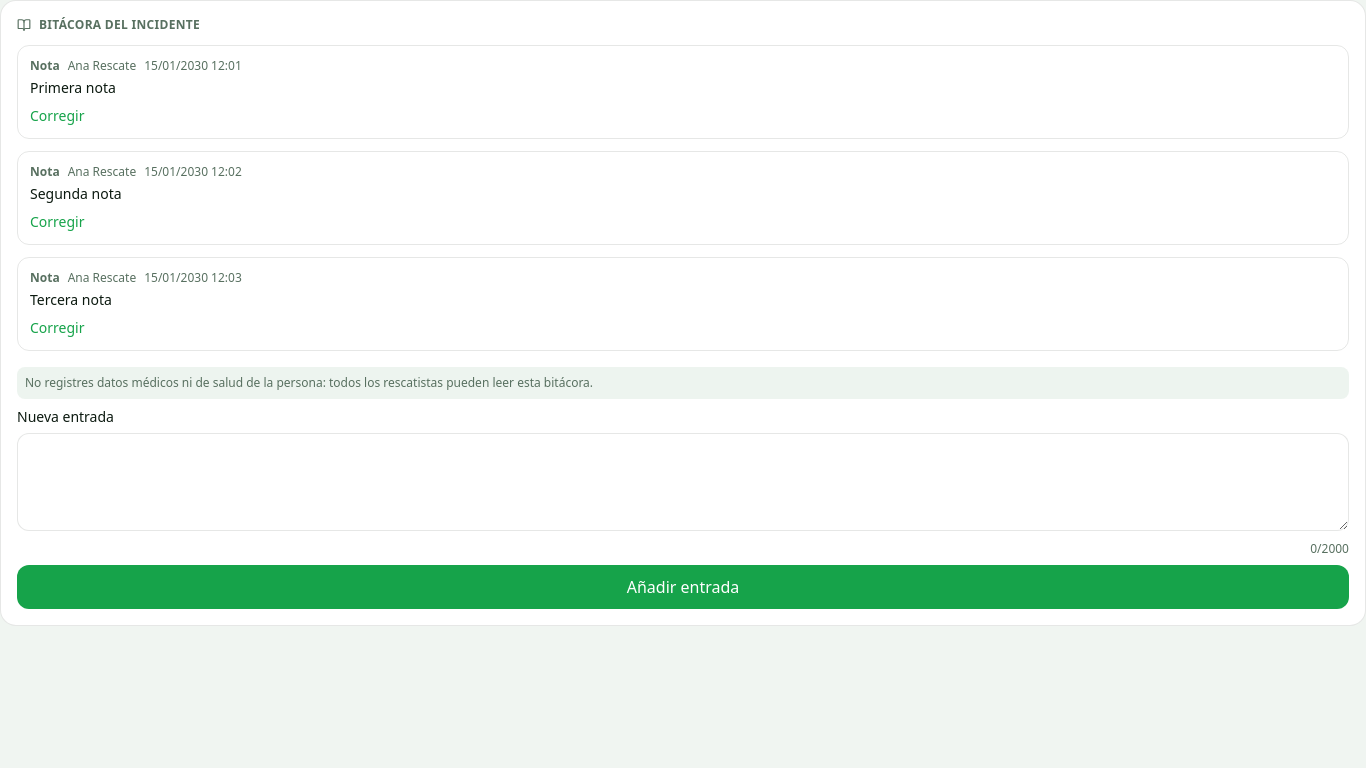
Test: BitacoraIncidente (HU-41) › "Corregir" envía corrigeEntradaId y "Cancelar corrección" lo quita
Click the button "Corregir" below "15/01/2030 12:02" at (57, 222), box [30,212,84,232]
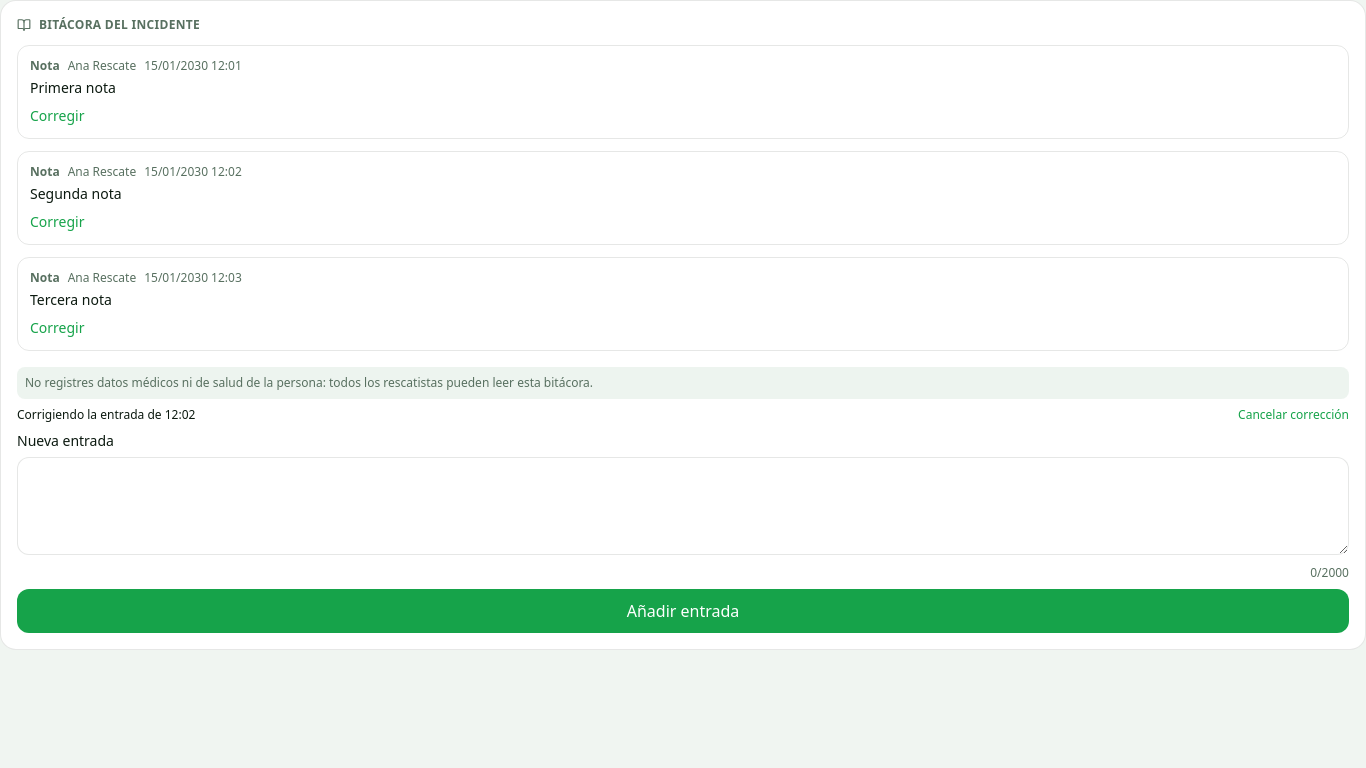
Check: the text "Corrigiendo la entrada de 12:02" is shown, box [17,407,195,423]
Click the button "Cancelar corrección" at (1294, 415), box [1238,407,1349,423]
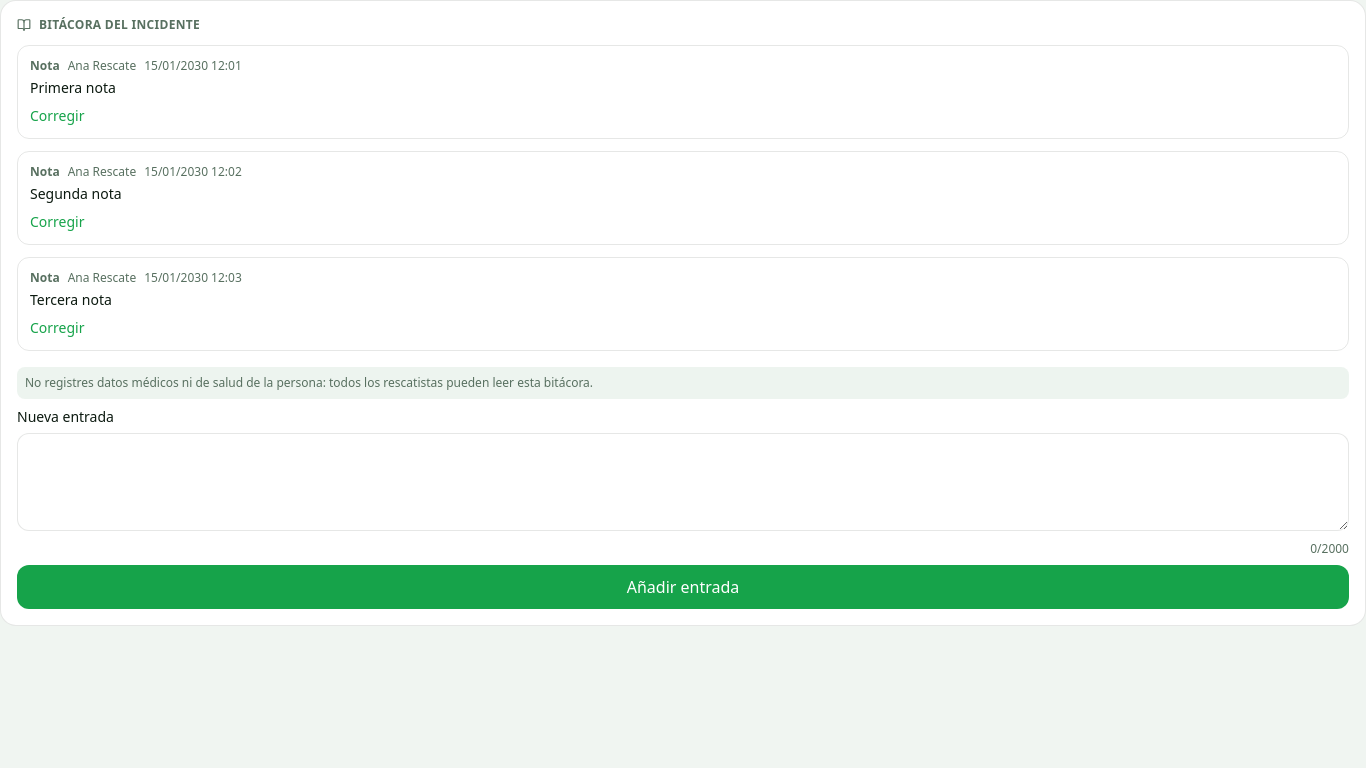
Check: the text "Corrigiendo la entrada" is gone
Click the button "Corregir" below "15/01/2030 12:02" at (57, 222), box [30,212,84,232]
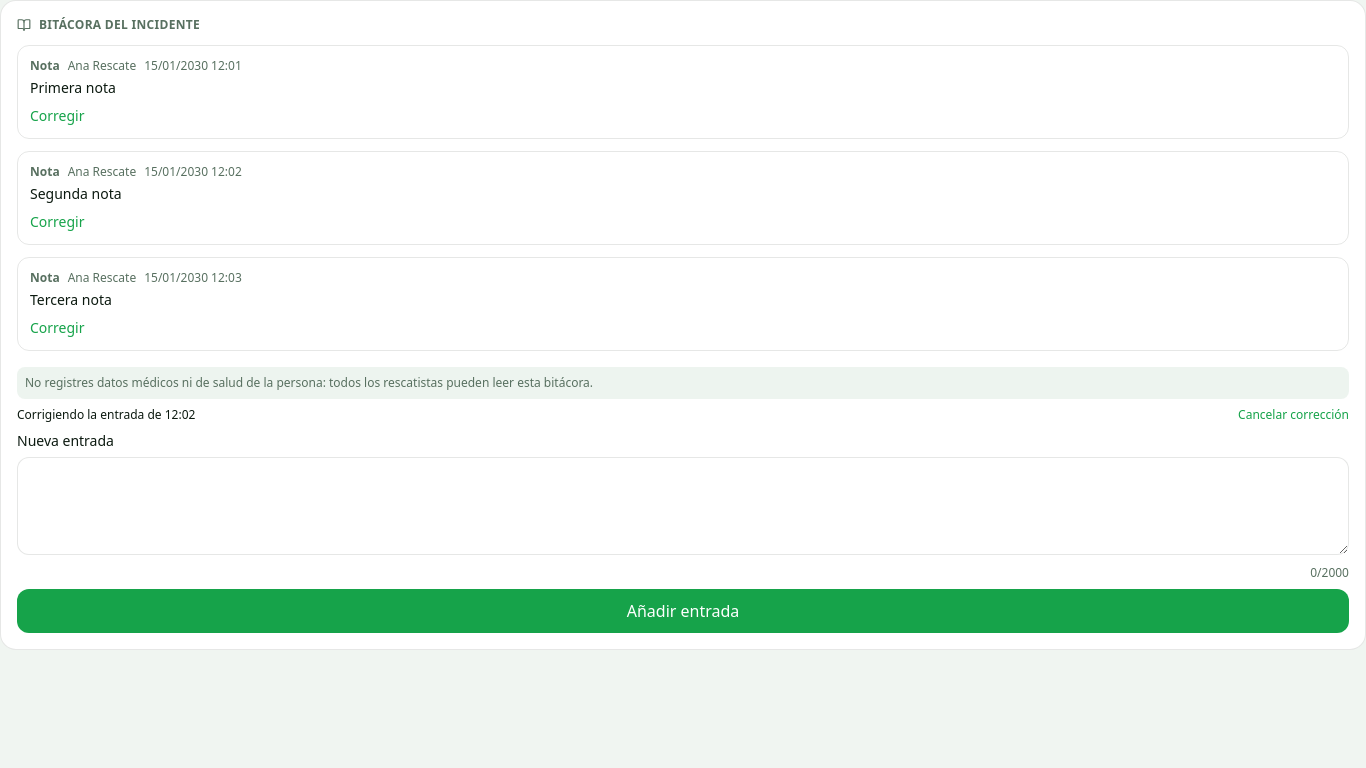
Type "Texto corregido" into the text box labelled "Nueva entrada" at (683, 506), box [17,457,1349,555]
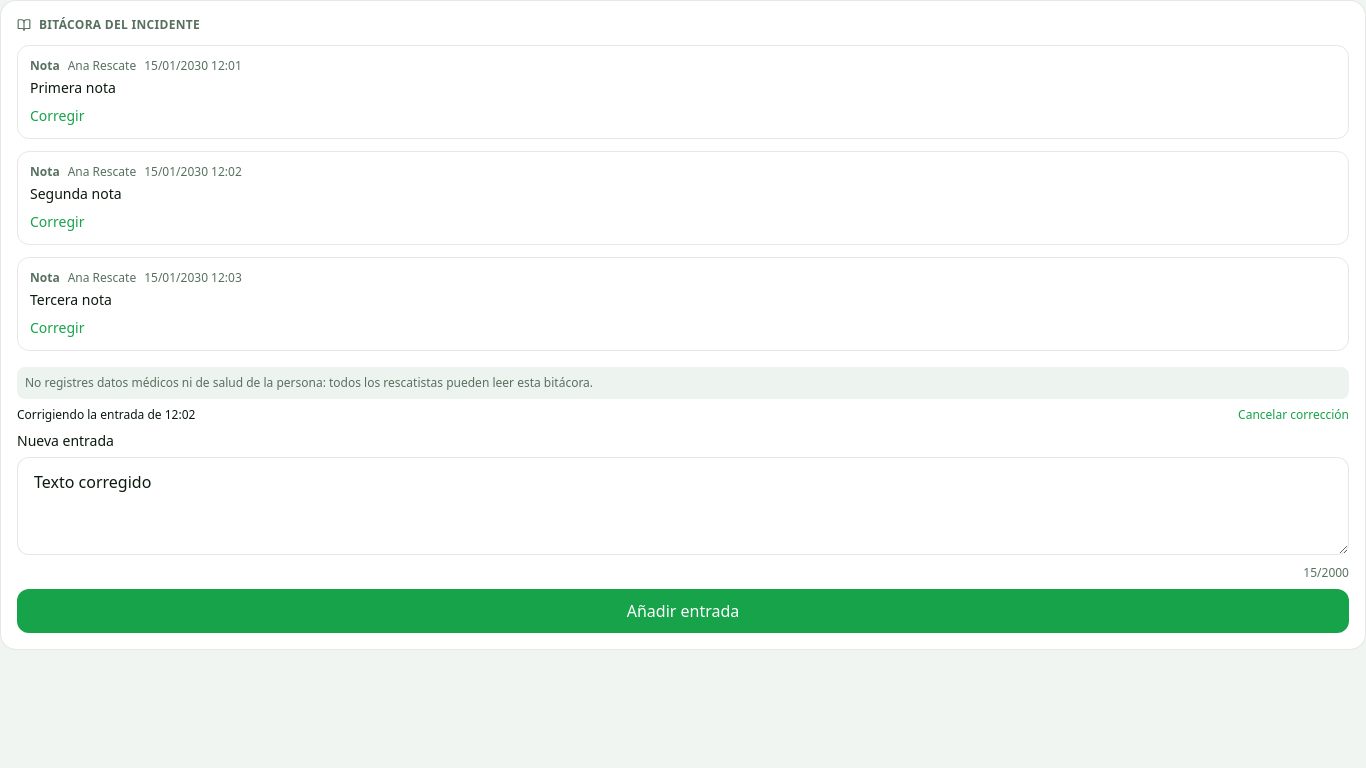
Click the button "Añadir entrada" at (683, 611), box [17,589,1349,633]
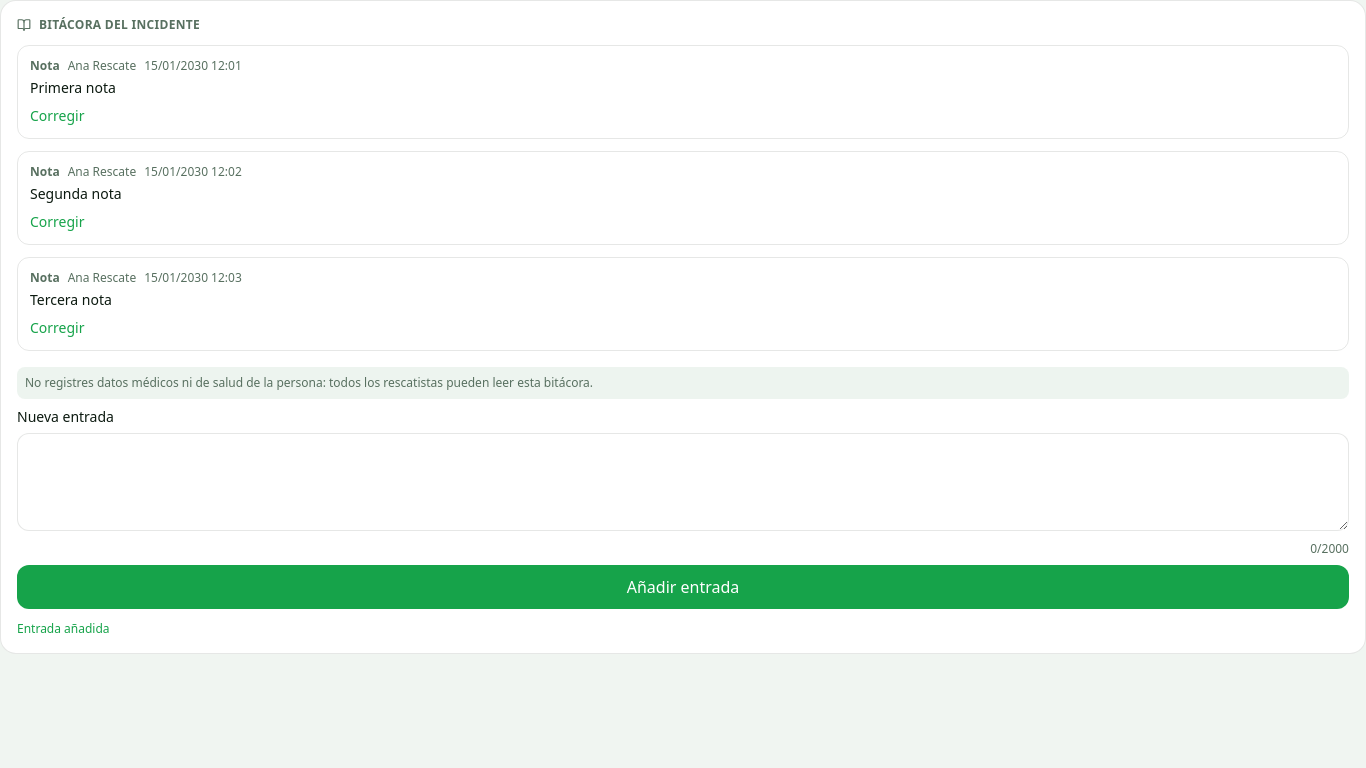
Check: the text "Corrigiendo la entrada" is gone
